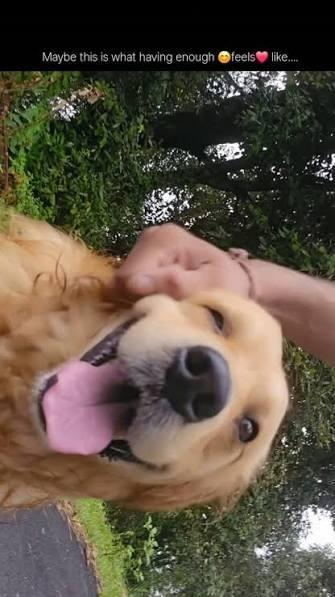adult_dog: (1, 203, 289, 521)
